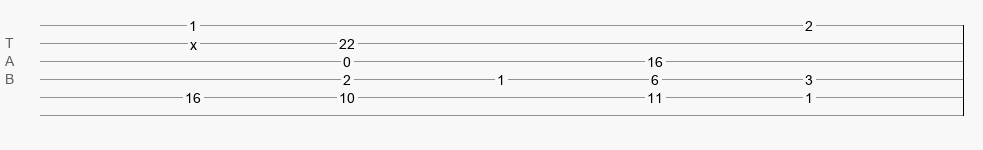0: (343, 54, 351, 64)
1: (189, 18, 197, 28), (497, 72, 505, 82), (805, 90, 813, 100)
10: (339, 90, 355, 100)
11: (647, 90, 663, 100)
16: (185, 90, 201, 100), (647, 54, 663, 64)
2: (343, 72, 351, 82), (805, 18, 813, 28)
22: (339, 36, 355, 46)
3: (805, 72, 813, 82)
6: (651, 72, 659, 82)
x: (190, 37, 197, 45)
